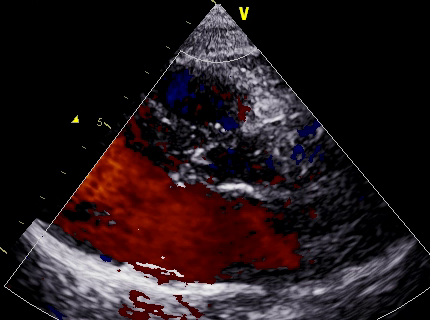AR: (170, 164, 283, 244)
